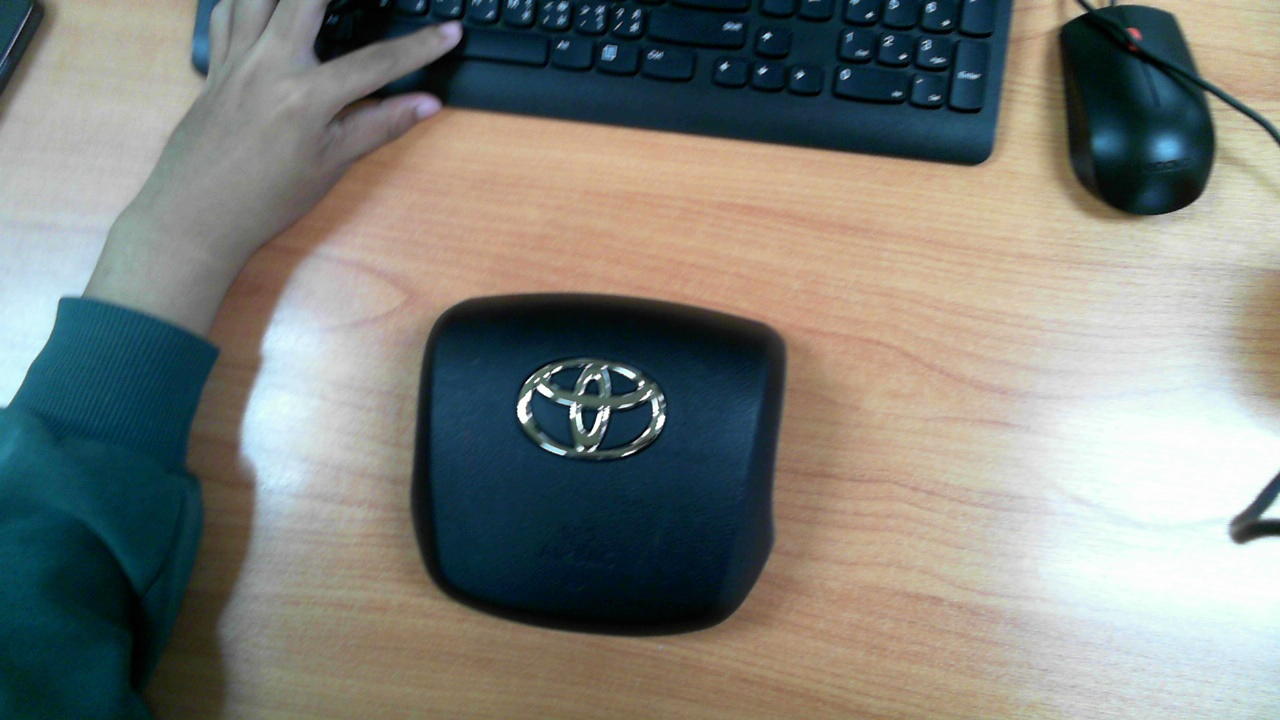Airbag: (410, 292, 785, 637)
Toyota: (517, 358, 666, 461)
